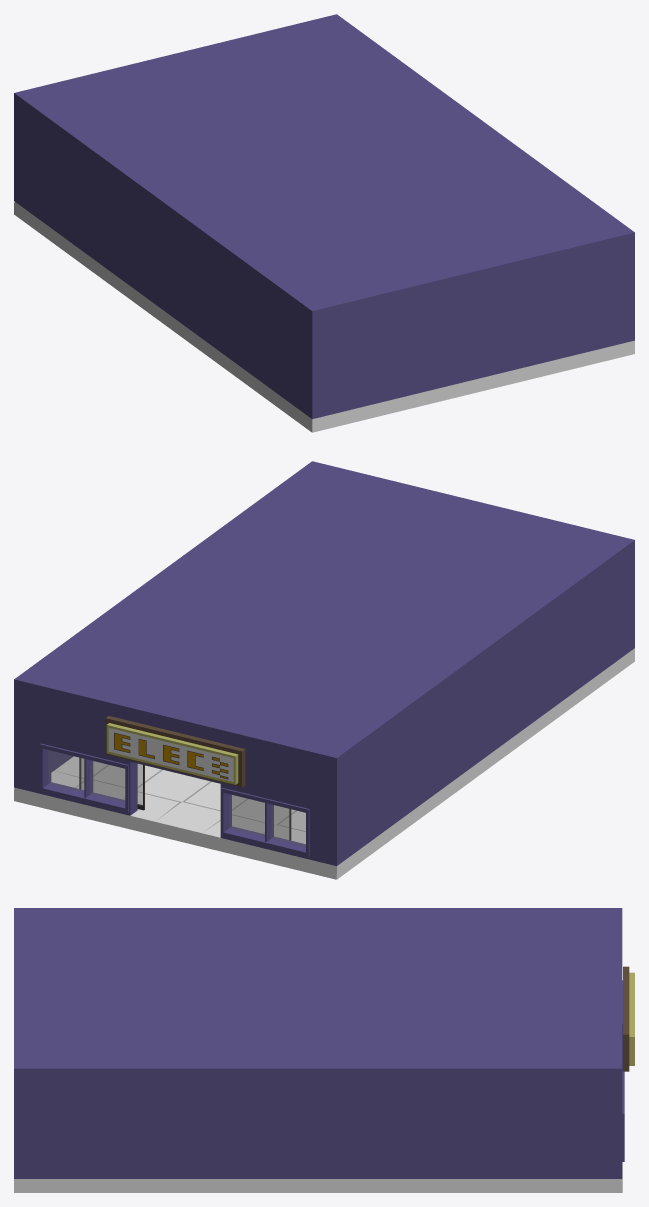
File: Tienda de electronicos 2.fbx
3 renders of one model, top to bottom at view 1: azimuth 30°, elevation 25°; view 2: azimuth 150°, elevation 25°; view 3: azimuth 270°, elevation 25°, orthographic. The views are drawn at different scales.
Visible parts, largest first — view 1: Pared_1x10x80, Pared_21x10x1, Pared_1x10x36, Pared_1x10x138, Esquina_1x10x1, Esquina_1x10x48, Esquina_1x10x11; view 2: Pared_1x10x80, Pared_1x10x36, Pared_1x10x138, Pared2_21x10x1, Pared_1x10x153, Esquina_1x10x11, Esquina_1x10x47, Vidrio_ventana_11, Vidrio_ventana_10, polySurface56, Esquina_1x10x1, polySurface57; view 3: Pared_1x10x80, Pared_1x10x79, Pared_1x10x138, Esquina_1x10x47, Esquina_1x10x48, Pared_1x10x153.
Part boxes in pixels (bbox=[...]): Pared_1x10x80: bbox=[14, 14, 634, 324]; Pared_21x10x1: bbox=[338, 252, 609, 412]; Pared_1x10x36: bbox=[29, 117, 297, 407]; Pared_1x10x138: bbox=[14, 201, 634, 432]; Esquina_1x10x1: bbox=[297, 314, 337, 419]; Esquina_1x10x48: bbox=[609, 246, 634, 346]; Esquina_1x10x11: bbox=[14, 106, 28, 211]; Pared_1x10x80: bbox=[14, 461, 634, 771]; Pared_1x10x36: bbox=[351, 564, 619, 854]; Pared_1x10x138: bbox=[14, 648, 634, 879]; Pared2_21x10x1: bbox=[40, 699, 310, 859]; Pared_1x10x153: bbox=[105, 716, 245, 787]; Esquina_1x10x11: bbox=[311, 761, 351, 865]; Esquina_1x10x47: bbox=[14, 693, 39, 793]; Vidrio_ventana_11: bbox=[229, 794, 305, 846]; Vidrio_ventana_10: bbox=[48, 750, 124, 802]; polySurface56: bbox=[232, 795, 288, 839]; Esquina_1x10x1: bbox=[620, 553, 634, 658]; polySurface57: bbox=[81, 758, 142, 805]; Pared_1x10x80: bbox=[14, 908, 622, 1082]; Pared_1x10x79: bbox=[44, 1082, 591, 1178]; Pared_1x10x138: bbox=[14, 1162, 622, 1192]; Esquina_1x10x47: bbox=[592, 1082, 622, 1178]; Esquina_1x10x48: bbox=[14, 1082, 44, 1178]; Pared_1x10x153: bbox=[623, 966, 634, 1071].
Size of the model in its own units: 25 by 9 by 40.83.
